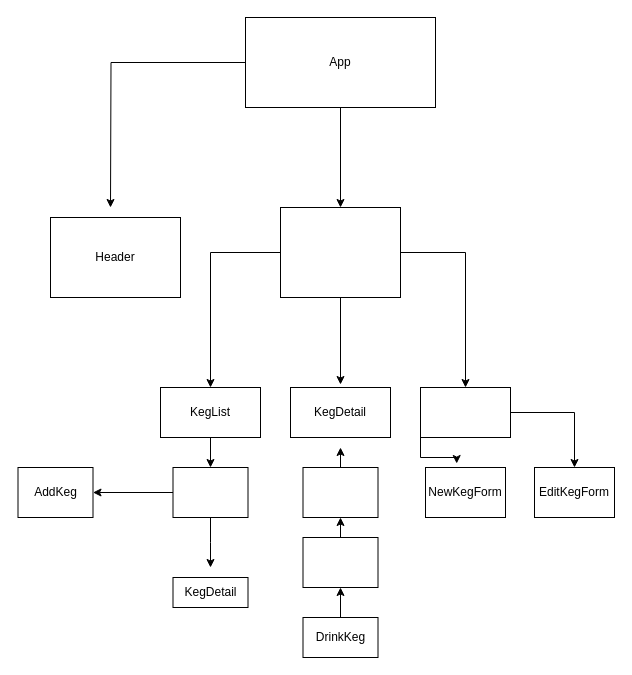
Image size: 632x675. Some labels were removed from this diagram. The box of each missing label's shape, as (x1, y1, x2, y2) in pixels:
DeleteKeg: (302, 536, 378, 588)
Keg: (172, 466, 248, 518)
KegControl: (280, 206, 400, 298)
ReusbaleForm: (420, 386, 510, 438)
UpdateKeg: (302, 466, 378, 518)
